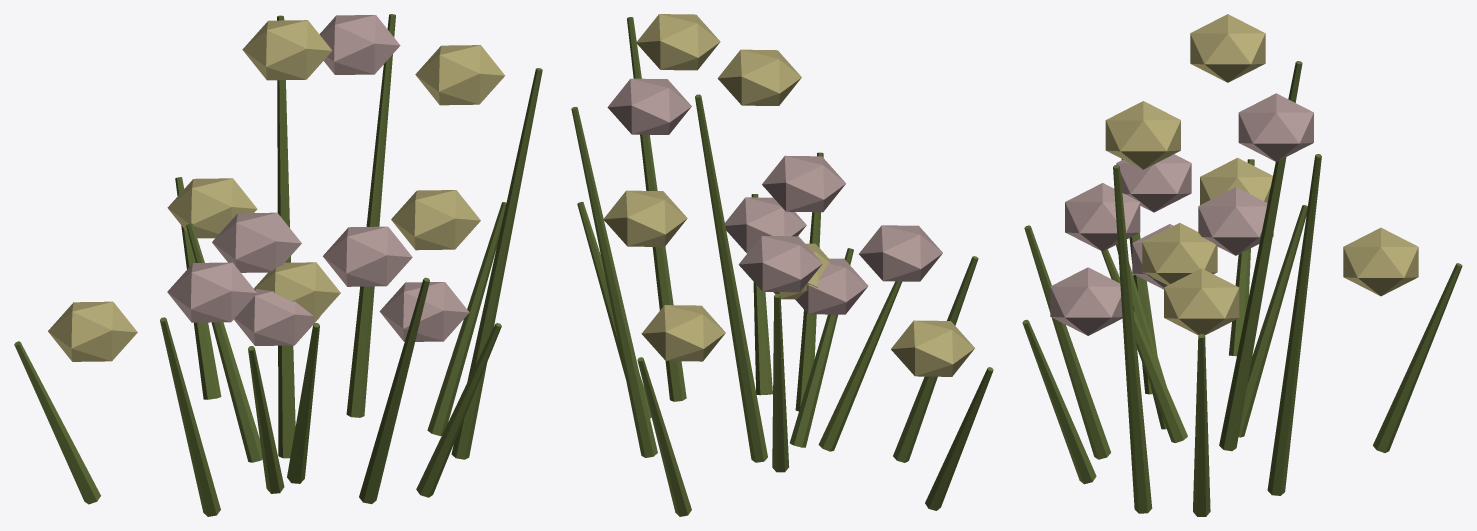
The model's file is wildflowers.glb.
The picture shows the model from 3 angles, left to right: view 1: azimuth 30°, elevation 25°; view 2: azimuth 150°, elevation 25°; view 3: azimuth 270°, elevation 25°; orthographic projection. The views are drawn at different scales.
Visible parts, largest first — view 1: world-scenery/wildflowers; view 2: world-scenery/wildflowers; view 3: world-scenery/wildflowers.
Boxes of the visible parts, bbox=[...] form: world-scenery/wildflowers: bbox=[14, 14, 542, 516]; world-scenery/wildflowers: bbox=[571, 14, 993, 516]; world-scenery/wildflowers: bbox=[1022, 14, 1462, 516].
Bounding box in the file's own units: 1.08 × 0.9558 × 0.8948.
